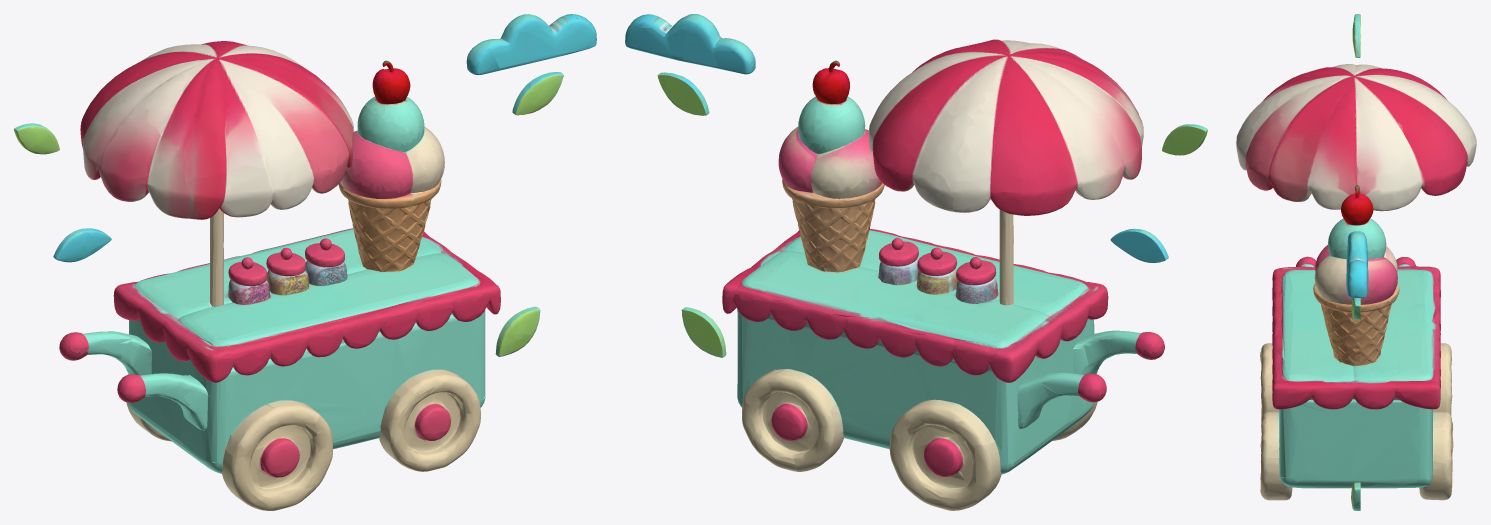
Rendered from ice-cream-cart-original.glb.
3 views of the same model, side by side, from view 1: azimuth 30°, elevation 25°; view 2: azimuth 150°, elevation 25°; view 3: azimuth 270°, elevation 25° (orthographic). The views are drawn at different scales.
Bounding box in the file's own units: 1.88 × 1.29 × 0.7979.
1 material, 1 textured.
